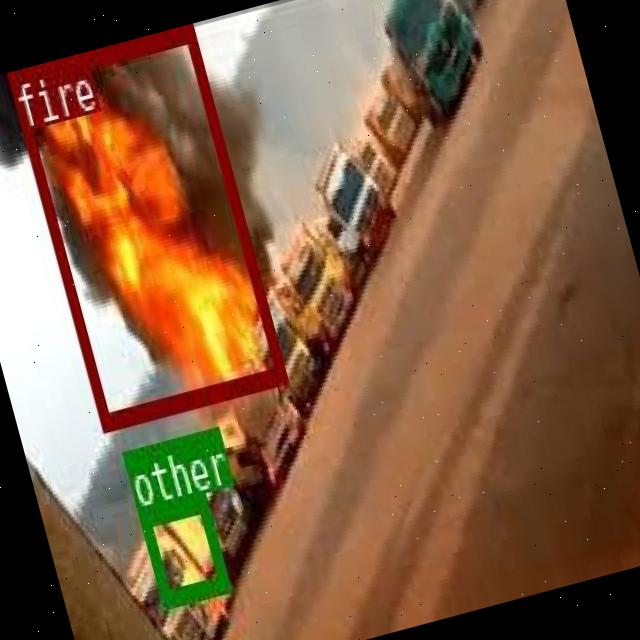fire: (6, 24, 284, 426)
